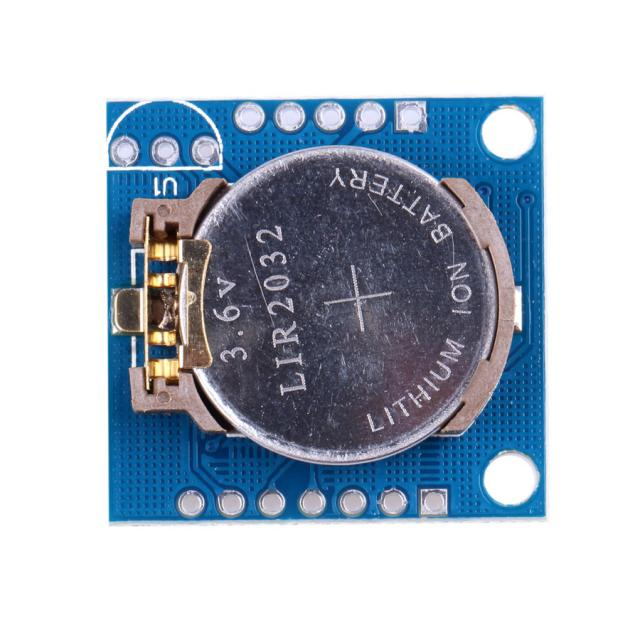battery: (124, 151, 517, 469)
